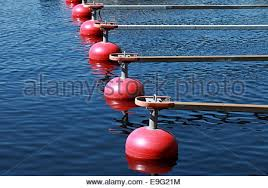buoy: (124, 127, 179, 163), (103, 77, 146, 103), (89, 43, 122, 64), (81, 21, 105, 37), (72, 5, 95, 17)
